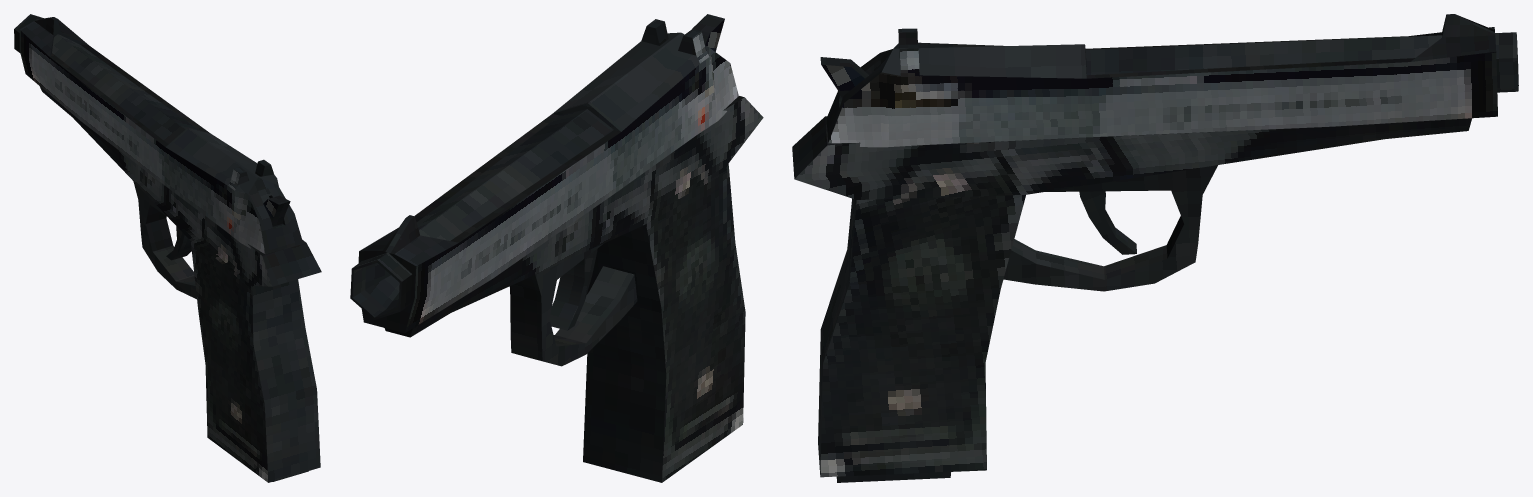
File: shotgun.glb
3 views of the same model, side by side, from view 1: azimuth 30°, elevation 25°; view 2: azimuth 150°, elevation 25°; view 3: azimuth 270°, elevation 25° (orthographic). The views are drawn at different scales.
Visible parts, largest first — view 1: Cylinder; view 2: Cylinder; view 3: Cylinder.
Boxes of the visible parts, <box> form: Cylinder: <box>14,14,321,482</box>; Cylinder: <box>350,14,763,482</box>; Cylinder: <box>792,14,1518,482</box>.
Size of the model in its own units: 0.0236 by 0.1051 by 0.1569.
4 materials, 4 textured.
